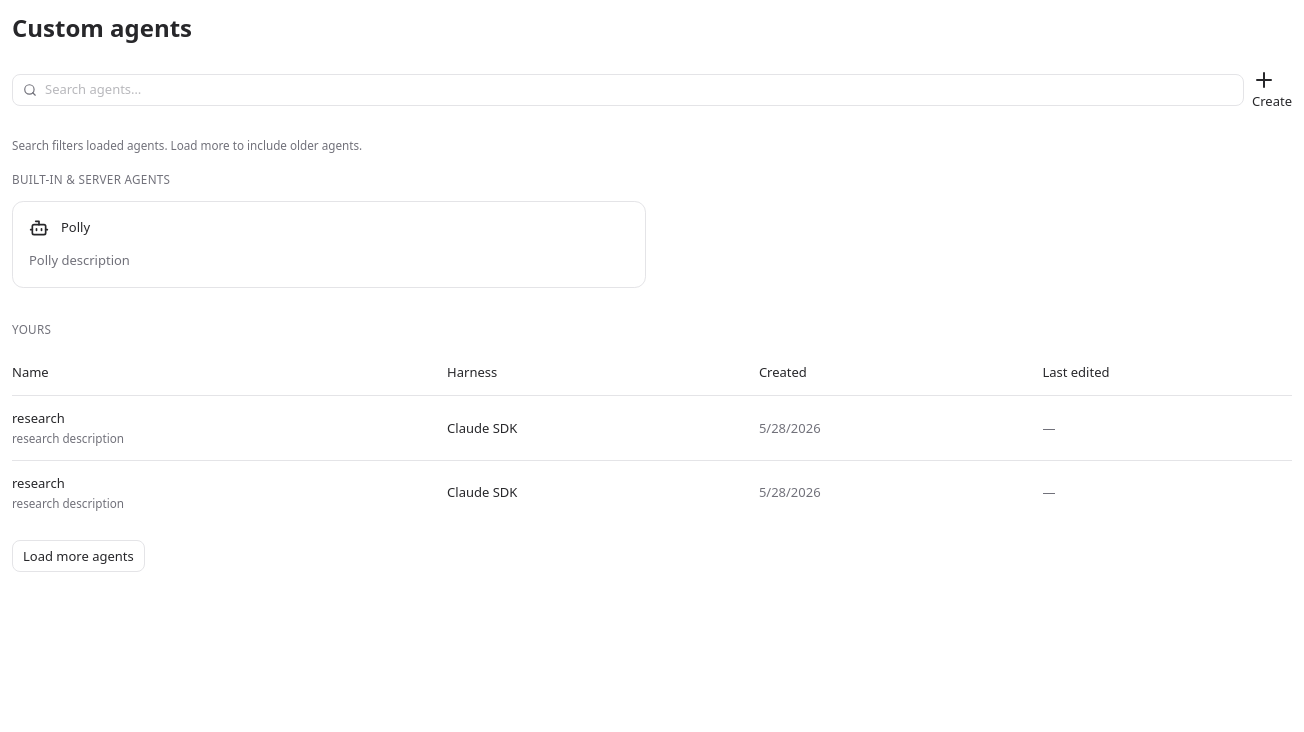
Scenario: Custom agents settings › updates search results when the term or loaded pages change
Expected: the number of links "research" is 2, [12, 409, 65, 427]; [12, 474, 65, 492]
Type " RESEARCH " into the search field at (639, 90), box [45, 79, 1233, 100]
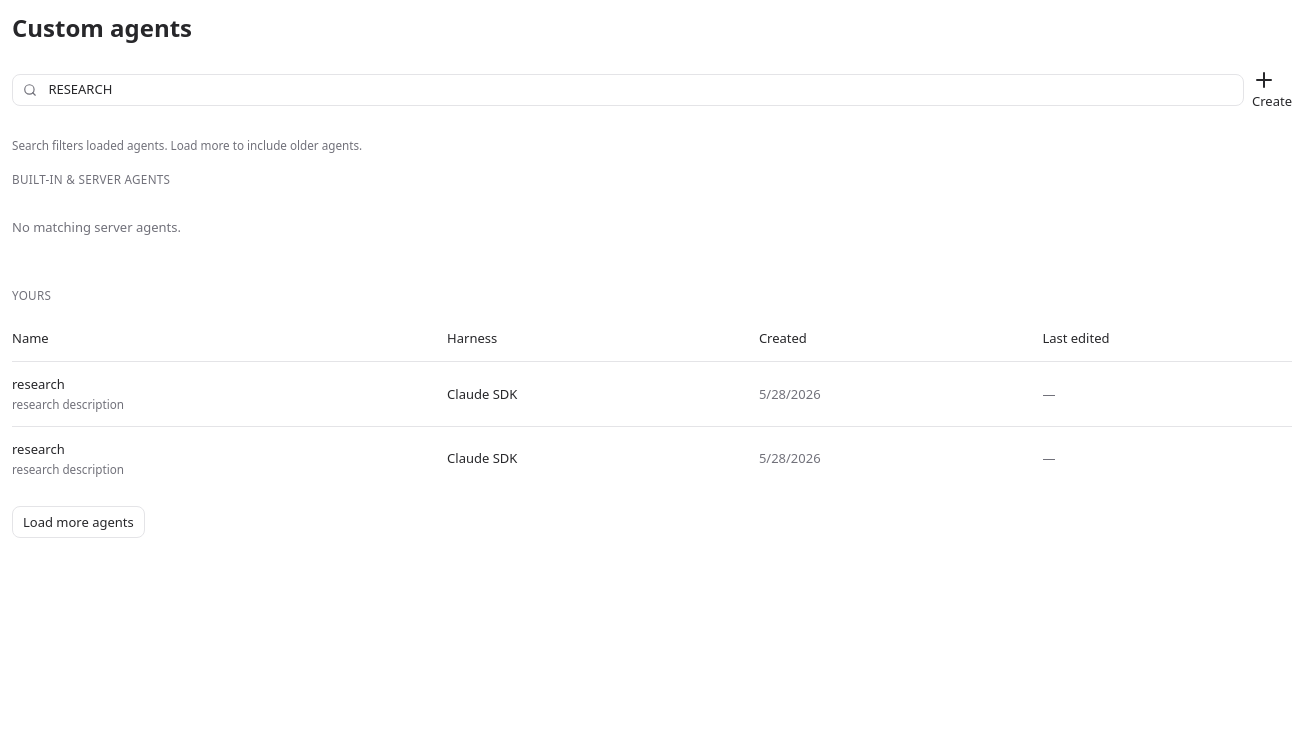
Expected: the number of links "research" is 2, [12, 375, 65, 393]; [12, 440, 65, 458]
Now the link "Polly description" is gone
Click the button "Load more agents" at (78, 522), box [12, 506, 145, 538]
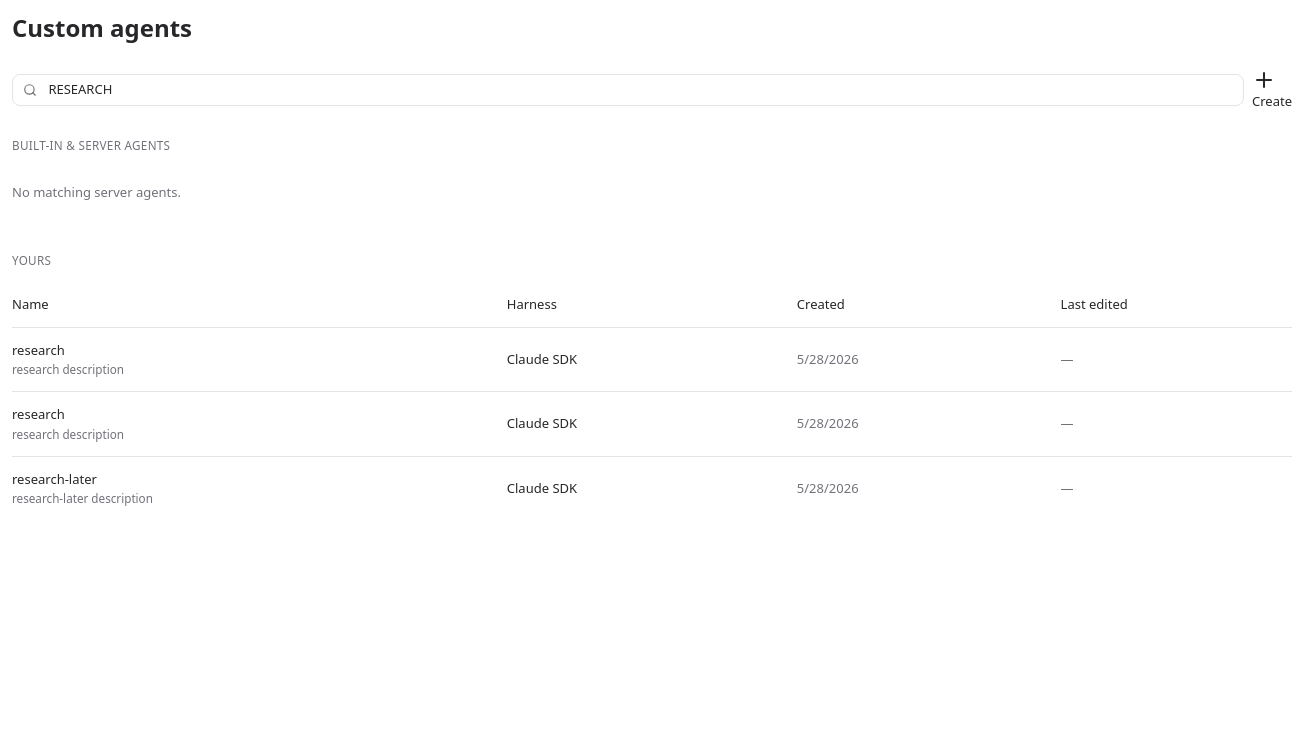
Now the link "research-later" is shown, box [12, 470, 97, 488]
Replace the text in the search field with "polly" at (639, 90), box [45, 79, 1233, 100]
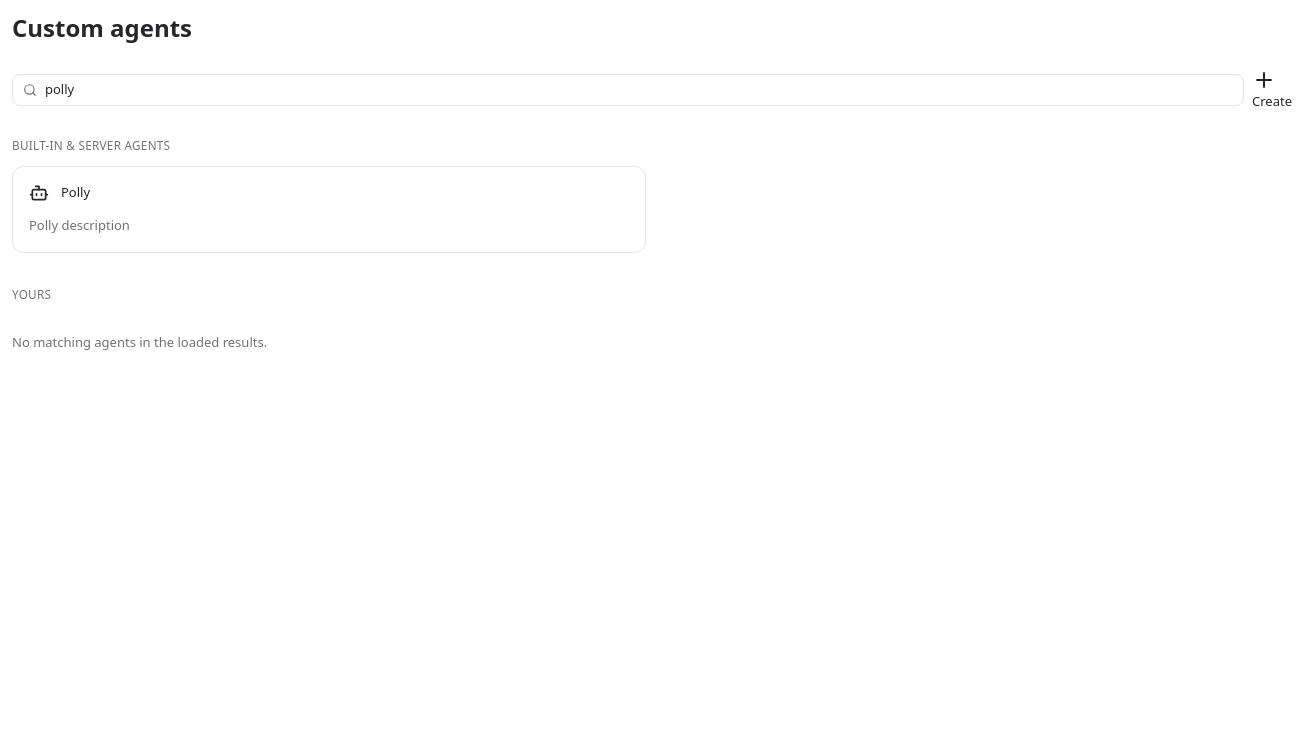
Now the link "Polly Polly description" is shown, box [12, 166, 646, 253]
Now the link "research-later" is gone
